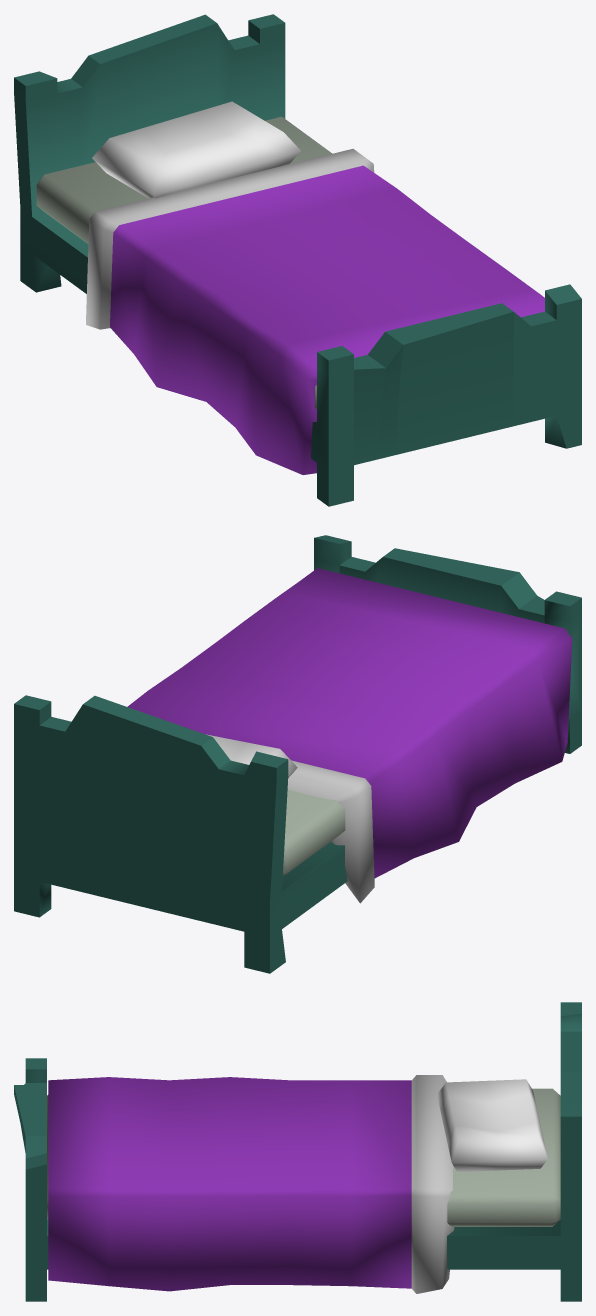
File: bed.fbx
3 renders of one model, top to bottom at view 1: azimuth 30°, elevation 25°; view 2: azimuth 150°, elevation 25°; view 3: azimuth 270°, elevation 25°, orthographic. The views are drawn at different scales.
Visible parts, largest first — view 1: Bed; view 2: Bed; view 3: Bed.
Boxes of the visible parts, x1,y1,x2,y2 form: Bed: [14, 14, 581, 506]; Bed: [14, 535, 581, 973]; Bed: [14, 1002, 581, 1301].
Size of the model in its own units: 285 by 526 by 204.
